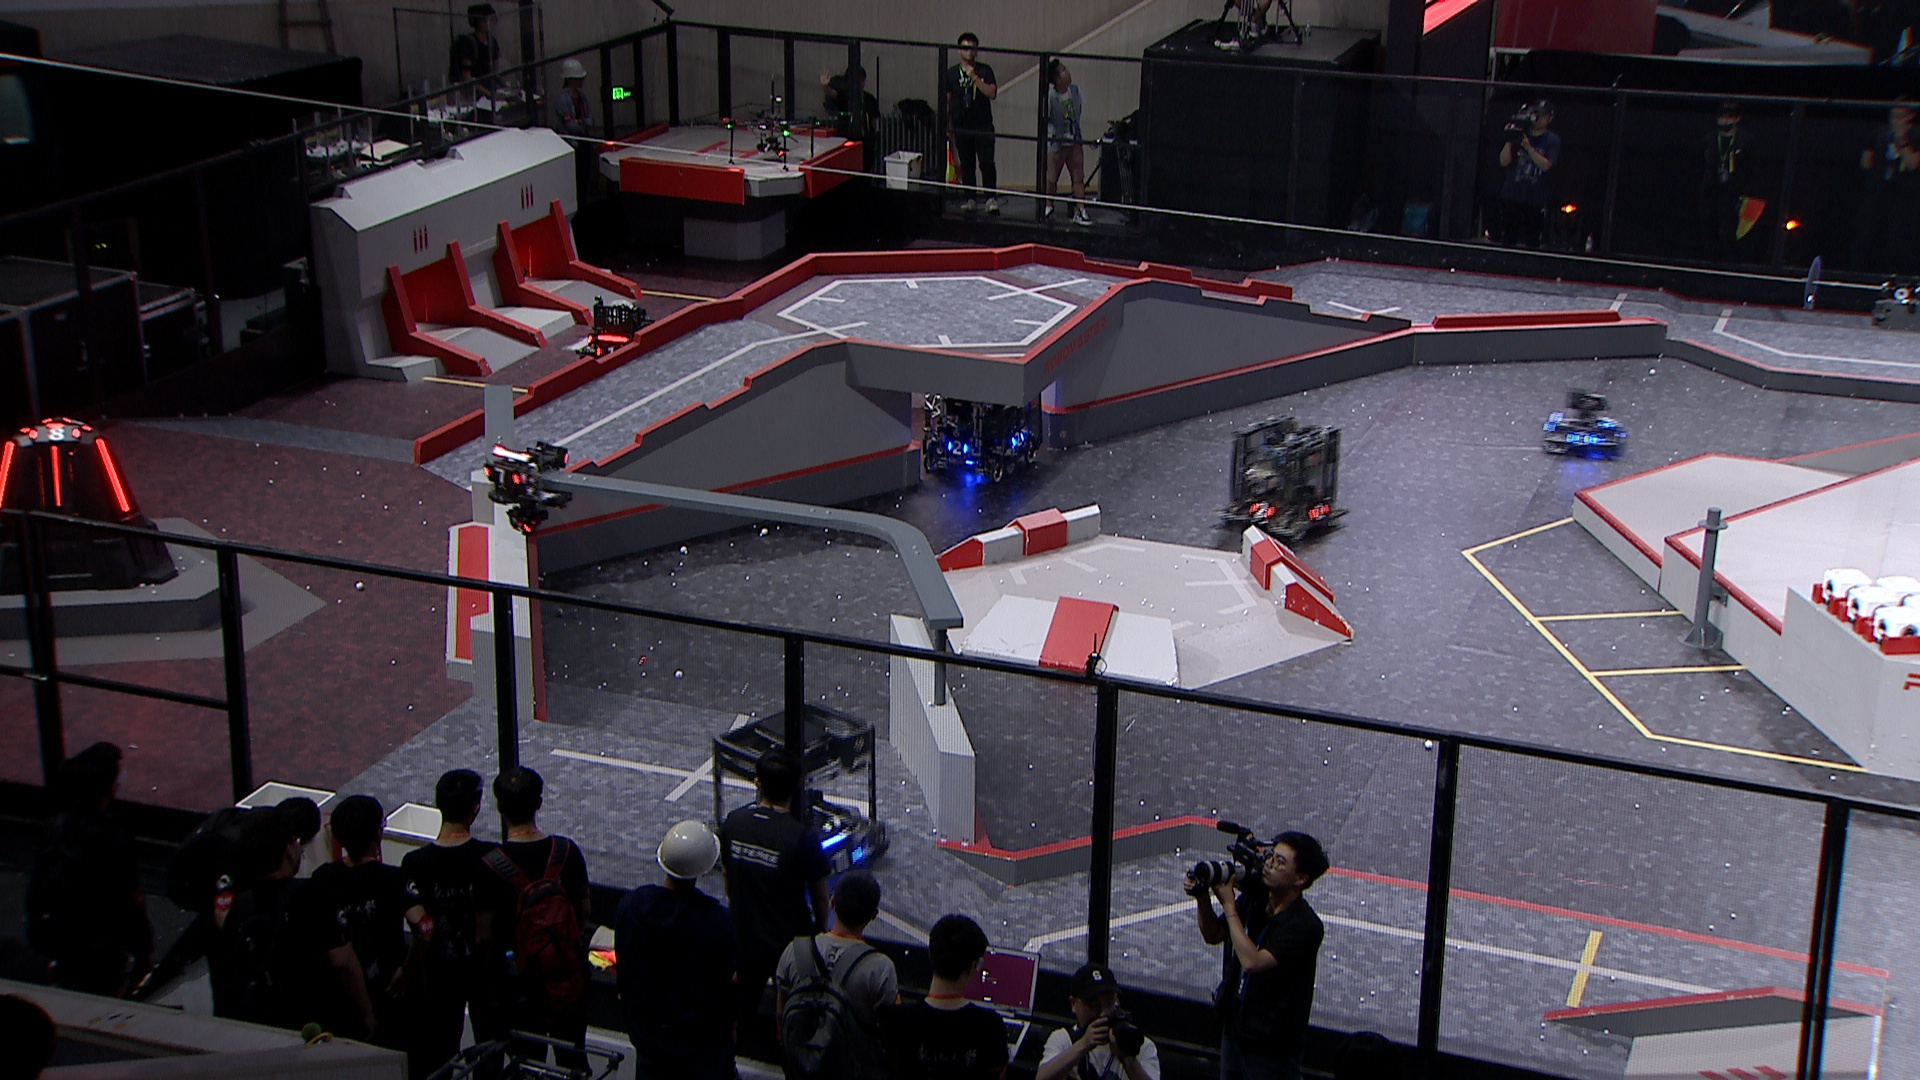armor: (96, 436, 133, 516), (825, 845, 866, 880), (49, 443, 63, 506), (481, 463, 518, 484), (26, 429, 80, 440), (1247, 501, 1275, 518), (1567, 429, 1590, 446), (1309, 498, 1329, 518), (945, 439, 968, 455), (597, 344, 618, 360), (1544, 411, 1560, 431), (1596, 413, 1614, 429), (1013, 427, 1027, 446)
car: (709, 698, 889, 898), (913, 360, 1048, 485), (1218, 411, 1346, 542), (578, 294, 662, 378), (1539, 386, 1629, 460)
watcher: (479, 434, 576, 541)
